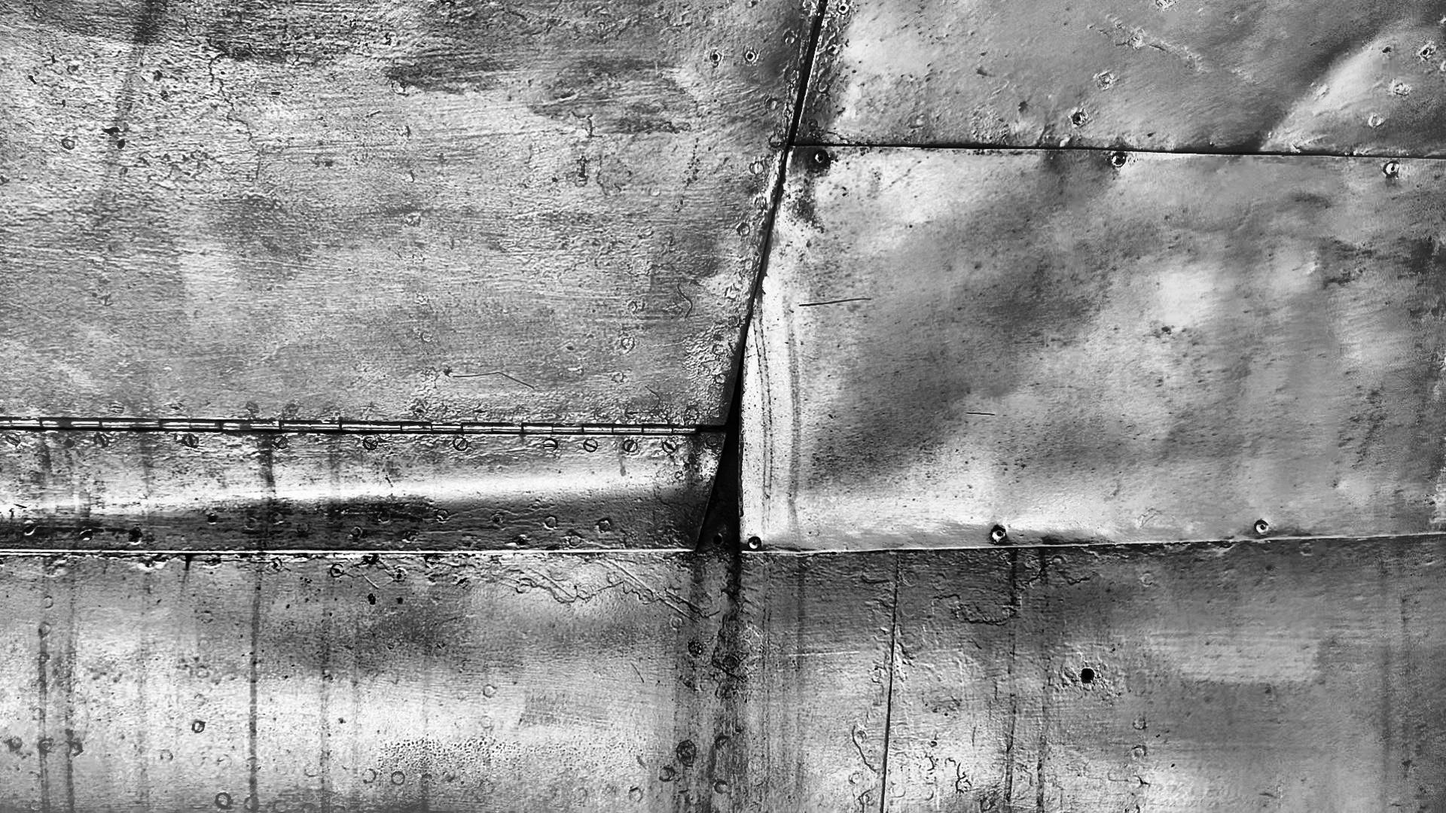dent: (1250, 36, 1369, 152), (1005, 525, 1113, 546)
missing-head: (1073, 113, 1084, 124), (1422, 47, 1429, 58)
scratch: (601, 555, 697, 625), (527, 568, 578, 600), (796, 295, 874, 311)
